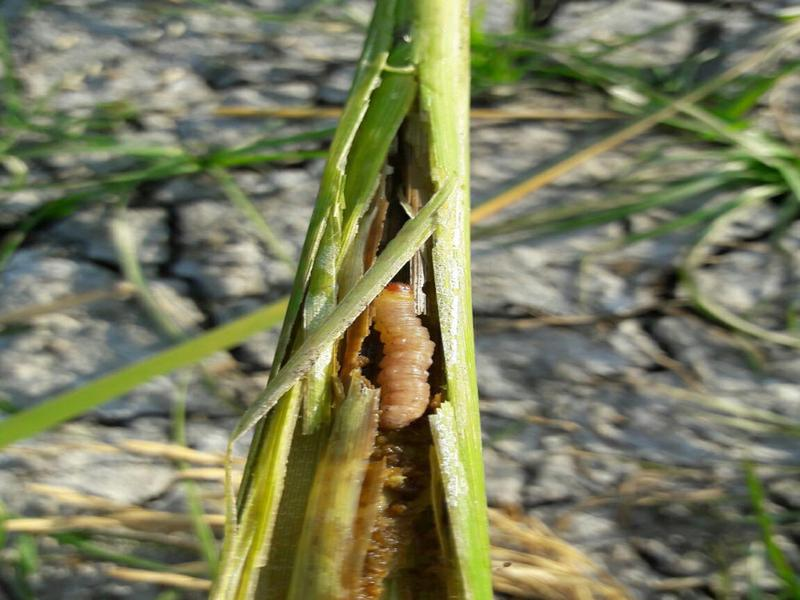Paddy_stemborer: (348, 251, 451, 442)
